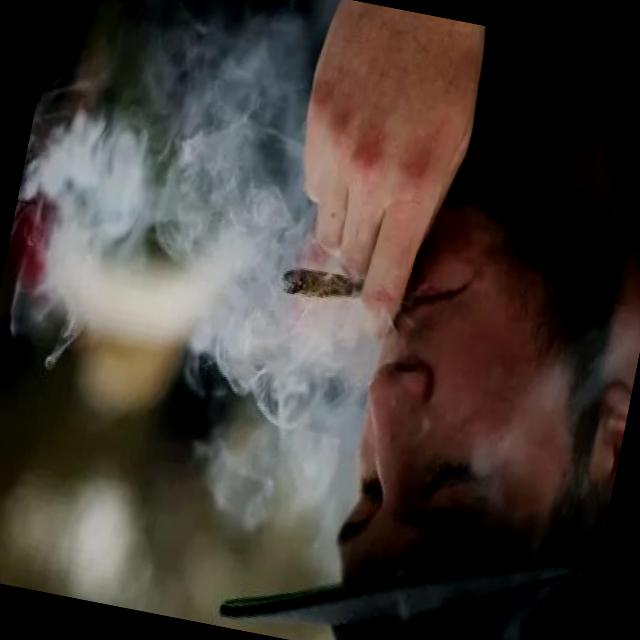cigarette: (276, 250, 376, 315)
